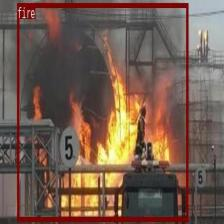fire: (17, 2, 188, 221)
